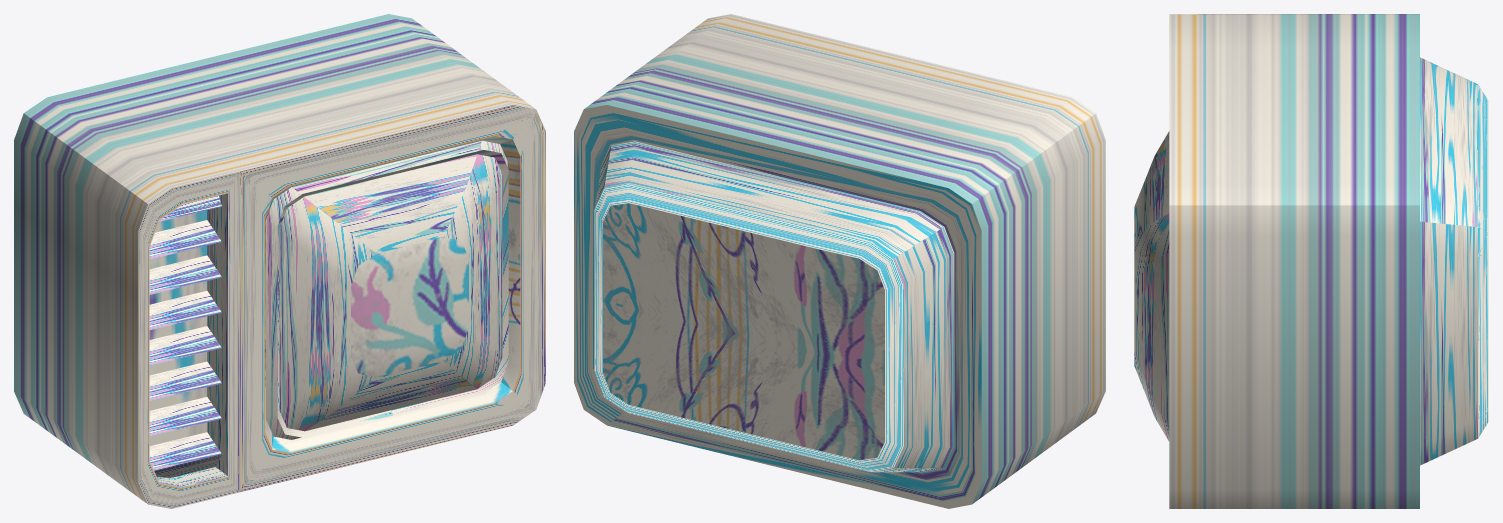
File: Screen_Retro_01.glb
3 views of the same model, side by side, from view 1: azimuth 30°, elevation 25°; view 2: azimuth 150°, elevation 25°; view 3: azimuth 270°, elevation 25° (orthographic).
Visible parts, largest first — view 1: Screen_Retro_01; view 2: Screen_Retro_01; view 3: Screen_Retro_01.
Boxes of the visible parts, box(x1,y1,x2,y2) form: Screen_Retro_01: box(14, 14, 545, 508); Screen_Retro_01: box(574, 14, 1105, 508); Screen_Retro_01: box(1134, 14, 1488, 508).
Size of the model in its own units: 3.01 by 2.27 by 2.24.
Materials: 4 (4 with a texture image).
